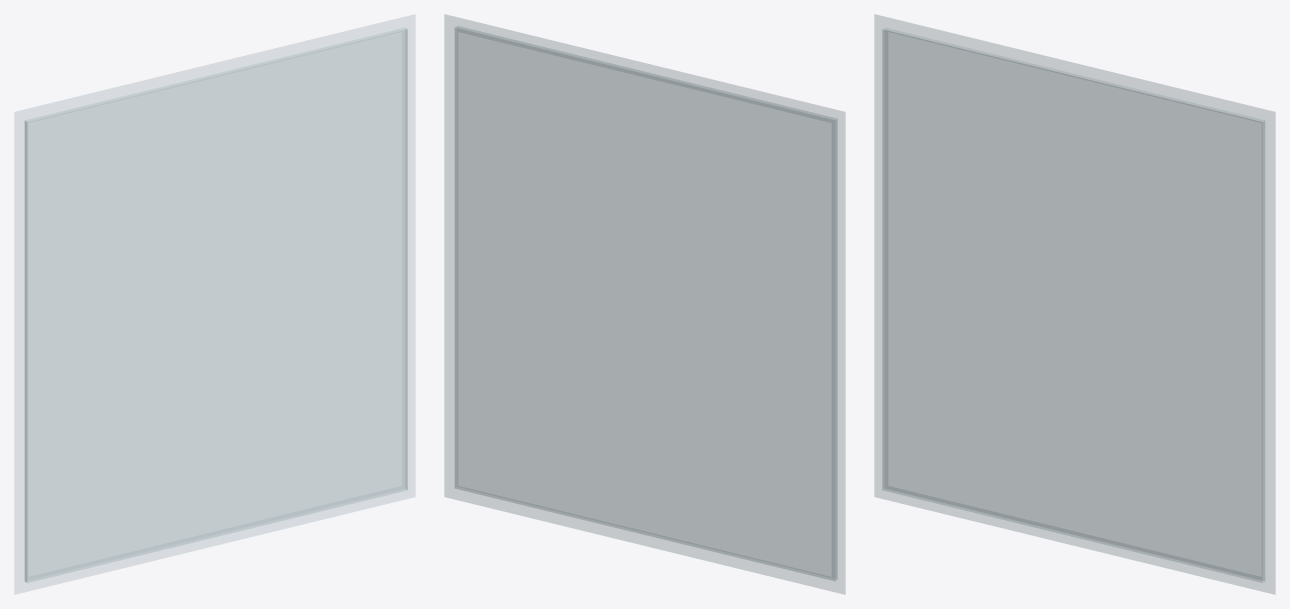
Rendered from TuTV_CanhKinh_Trai.glb.
The picture shows the model from 3 angles, left to right: view 1: azimuth 30°, elevation 25°; view 2: azimuth 150°, elevation 25°; view 3: azimuth 330°, elevation 25°; orthographic projection.
Parts seen in each view (by area): view 1: geometry_0; view 2: geometry_0; view 3: geometry_0.
Part boxes in pixels (x1,y1,x2,y2): geometry_0: (14, 14, 415, 594); geometry_0: (444, 14, 845, 594); geometry_0: (874, 14, 1275, 594).
Bounding box in the file's own units: 0.574 × 0.66 × 0.006.
